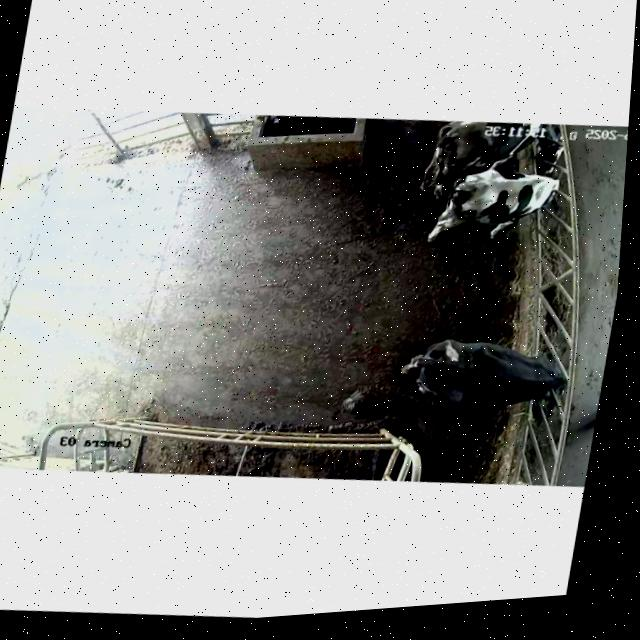eat: (507, 346, 597, 416), (508, 164, 593, 224), (508, 118, 581, 176)
